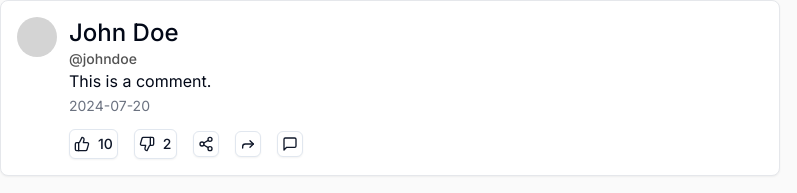
Test: hBPCommentBox Component › should handle like button click correctly for the comment
Click the element with test id "like-button".
click(93, 144)  # box [69,129,118,159]
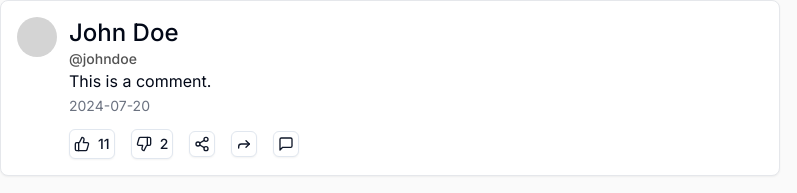
Check: the text "11" is shown, box [98,134,110,154]
